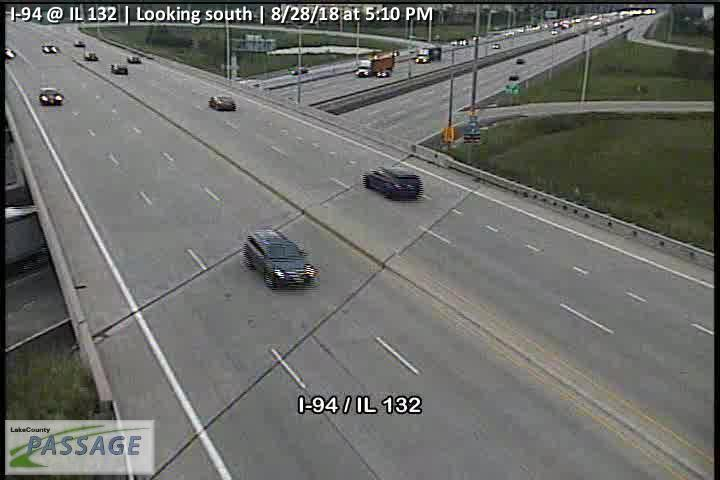SUV: (242, 231, 317, 289), (364, 168, 421, 202)
Sedan: (38, 88, 63, 104), (210, 96, 236, 110), (110, 64, 128, 75), (127, 56, 141, 63)
Truck: (355, 55, 395, 78), (416, 46, 441, 64)
